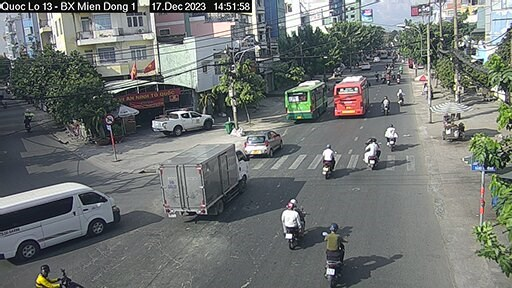bus: (288, 76, 330, 124)
car: (1, 168, 130, 268), (146, 95, 223, 128), (333, 73, 372, 124), (247, 127, 278, 157)
motorbike: (270, 196, 307, 253), (314, 218, 351, 262), (315, 144, 334, 184), (366, 138, 382, 179), (385, 125, 403, 155)
truck: (144, 146, 253, 219)
